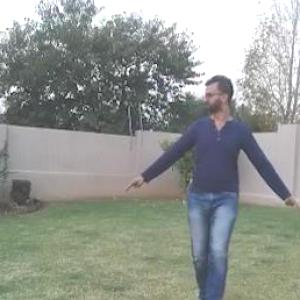land: (125, 73, 299, 299)
